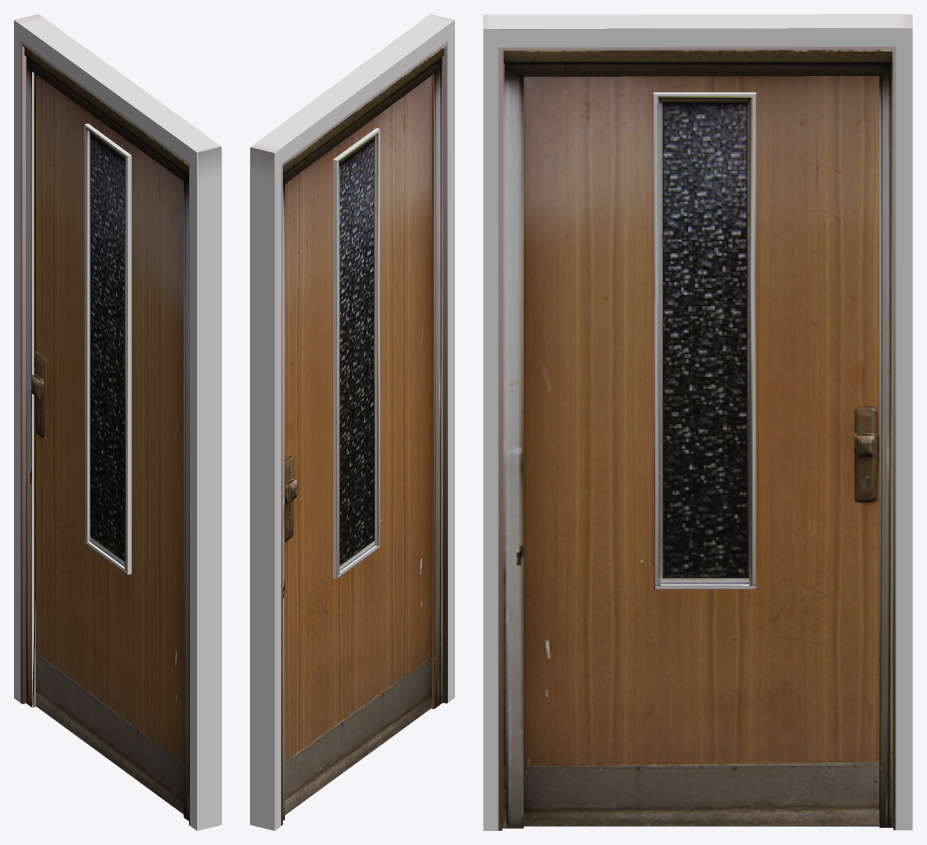
The model's file is WoodDoor02.FBX.
3 views of the same model, side by side, from view 1: azimuth 30°, elevation 25°; view 2: azimuth 150°, elevation 25°; view 3: azimuth 270°, elevation 25° (orthographic). The views are drawn at different scales.
Parts seen in each view (by area): view 1: DoorWood001, DoorWoodFrame001; view 2: DoorWood001, DoorWoodFrame001; view 3: DoorWood001, DoorWoodFrame001.
Part boxes in pixels (x1=…): DoorWood001: x1=31, y1=74, x2=183, y2=814; DoorWoodFrame001: x1=14, y1=14, x2=221, y2=830; DoorWood001: x1=285, y1=76, x2=431, y2=814; DoorWoodFrame001: x1=250, y1=14, x2=454, y2=830; DoorWood001: x1=523, y1=76, x2=879, y2=826; DoorWoodFrame001: x1=483, y1=14, x2=912, y2=830.
Bounding box in the file's own units: 11.63 × 279 × 135.
